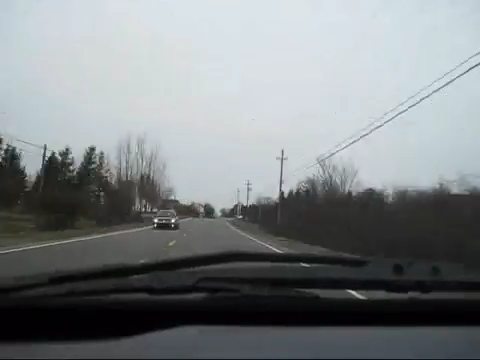car: (151, 208, 181, 230)
